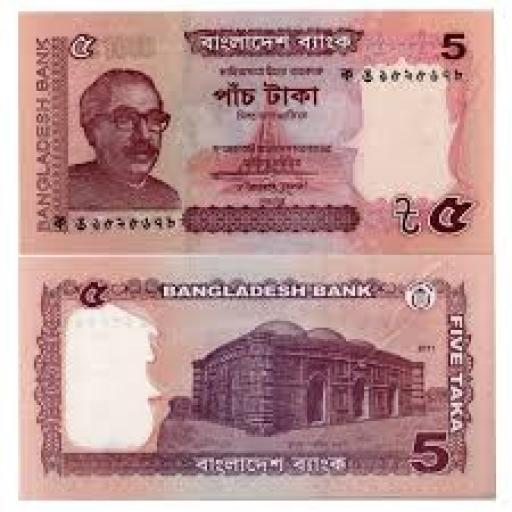5taka: (20, 250, 492, 496), (20, 11, 489, 250)
